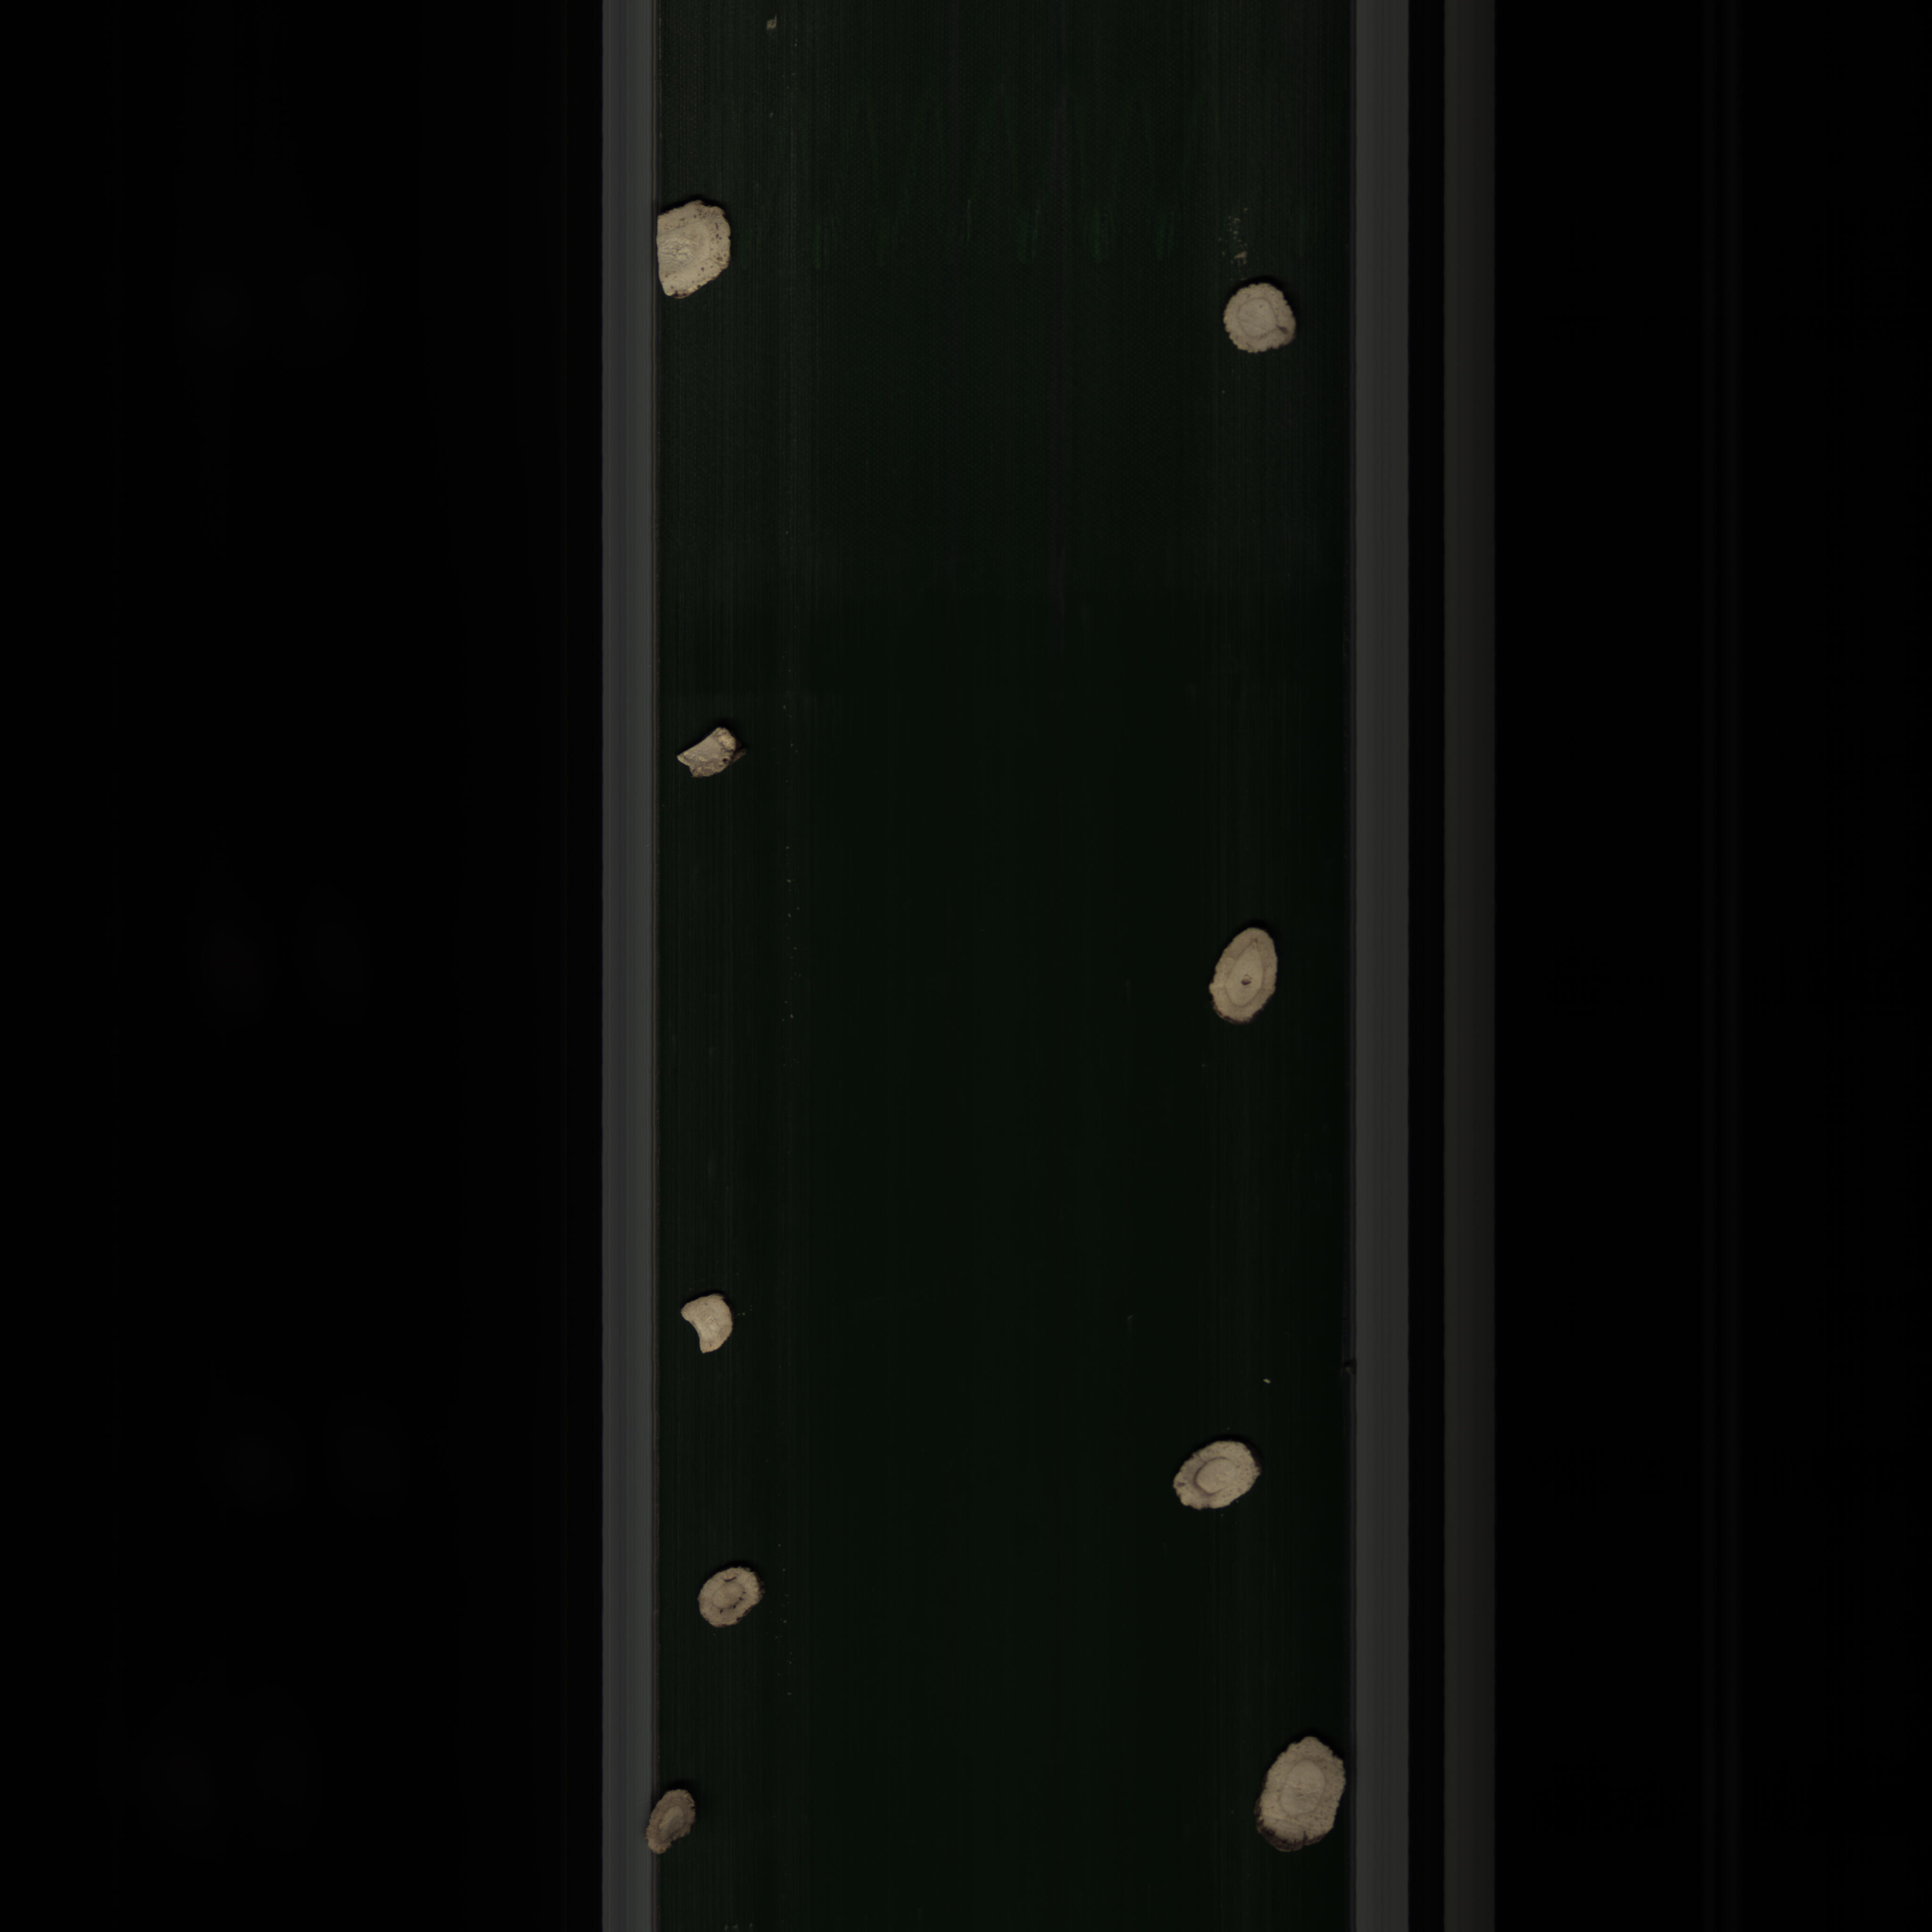debris: (651, 196, 743, 306), (672, 1284, 745, 1364), (676, 711, 748, 786)
hole: (690, 1562, 777, 1638)
moldy: (637, 1782, 706, 1859)
